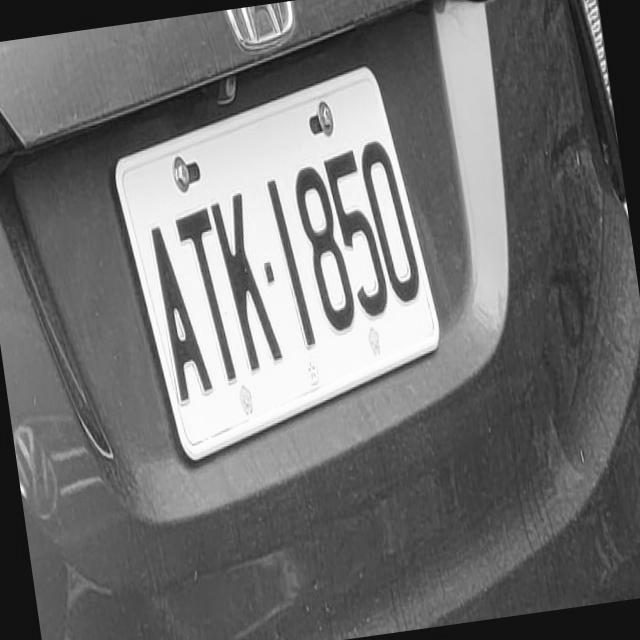LicensePlate: (109, 59, 448, 475)
